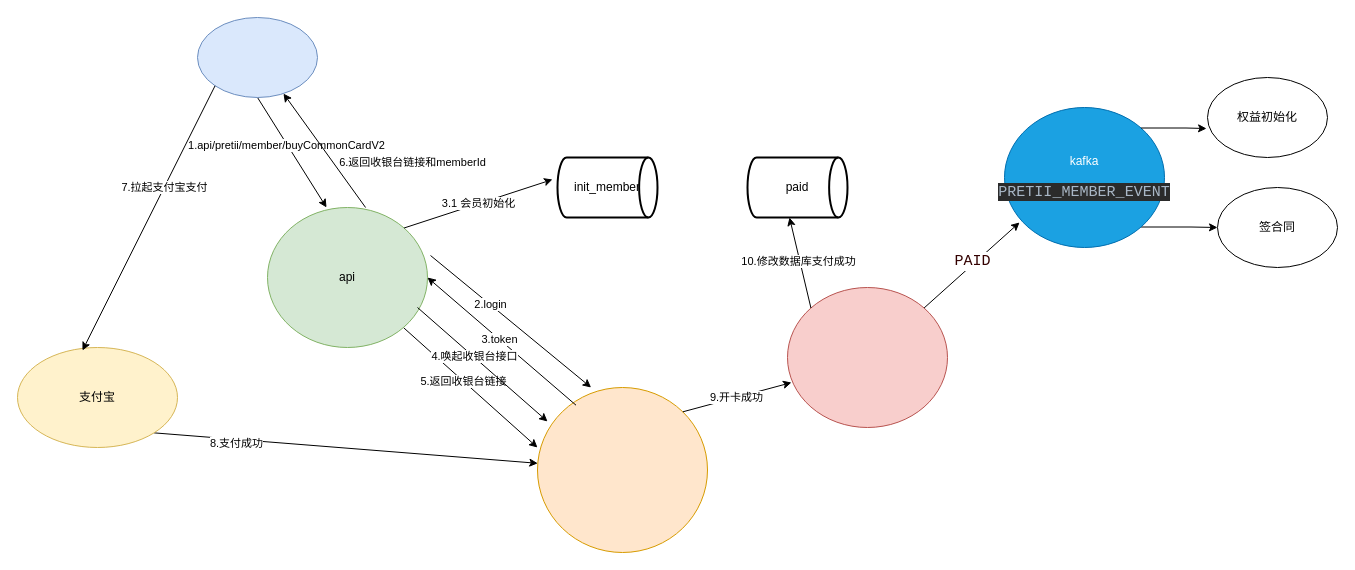
This 1355x570 diagram has some shape labels left out. The box of each missing label's shape, as (x1, y1, x2, y2) in pixels:
openApi: (786, 286, 948, 428)
web: (196, 16, 318, 98)
橡树: (536, 386, 708, 552)
